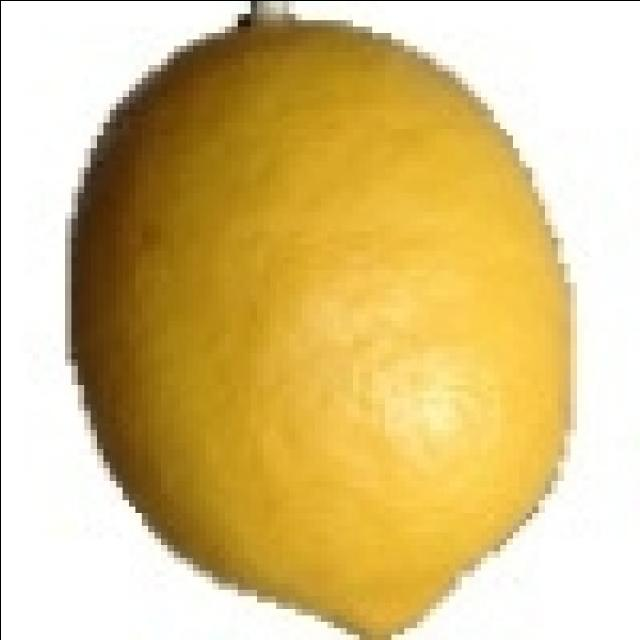lemon: (72, 6, 569, 640)
